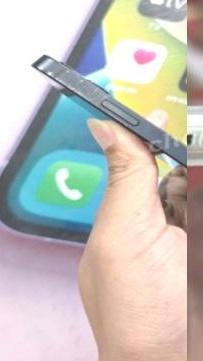scratch: (37, 46, 119, 127)
